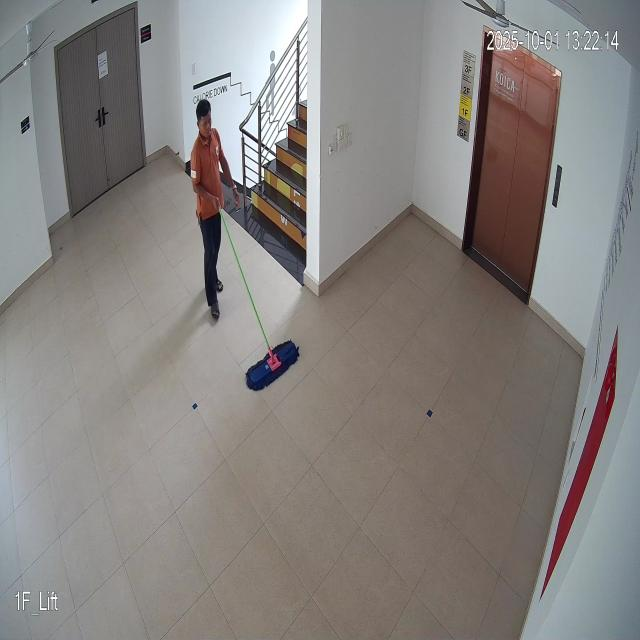face: (191, 91, 217, 145)
